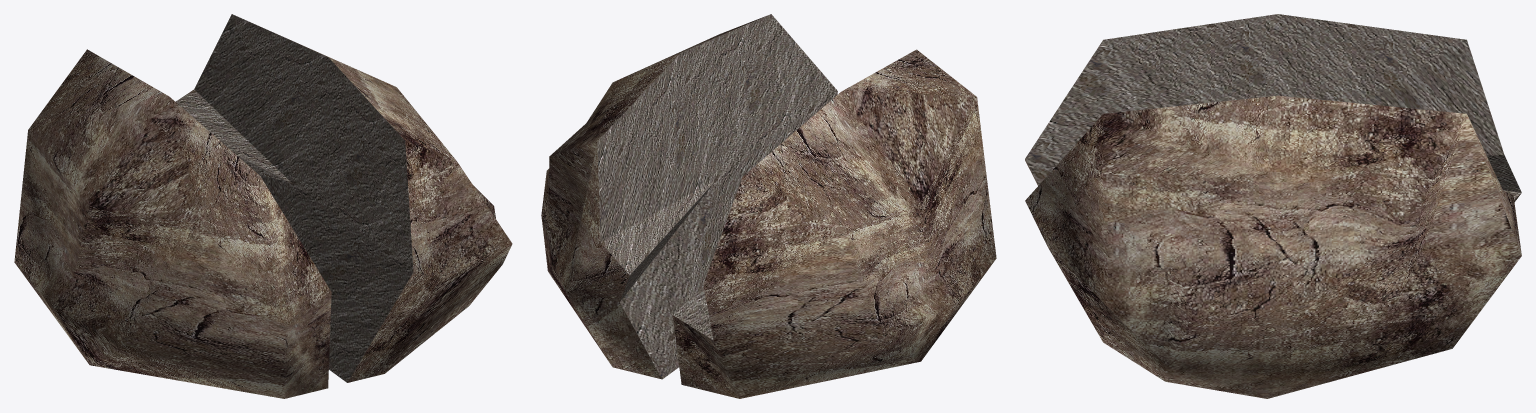
File: small_boulder04.fbx
The picture shows the model from 3 angles, left to right: view 1: azimuth 30°, elevation 25°; view 2: azimuth 150°, elevation 25°; view 3: azimuth 270°, elevation 25°; orthographic projection. The views are drawn at different scales.
Parts seen in each view (by area): view 1: mesh_0, mesh_1; view 2: mesh_0, mesh_1; view 3: mesh_0, mesh_1.
Boxes of the visible parts, box(x1,y1,x2,y2) form: mesh_0: box(14, 22, 512, 398); mesh_1: box(175, 14, 413, 382); mesh_0: box(541, 16, 996, 398); mesh_1: box(597, 14, 837, 379); mesh_0: box(1025, 95, 1521, 398); mesh_1: box(1025, 14, 1521, 199).
Size of the model in its own units: 145 by 86.16 by 148.
Materials: 2 (2 with a texture image).
